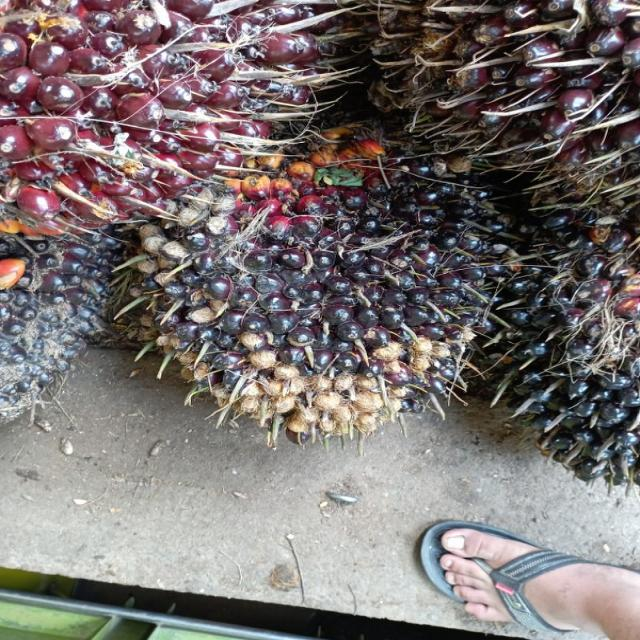fraksi 00: (128, 138, 512, 442), (495, 195, 640, 491)
fraksi 1: (0, 0, 321, 222)
